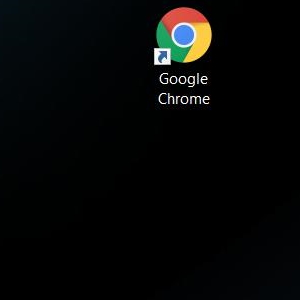chrome: (152, 7, 212, 66)
